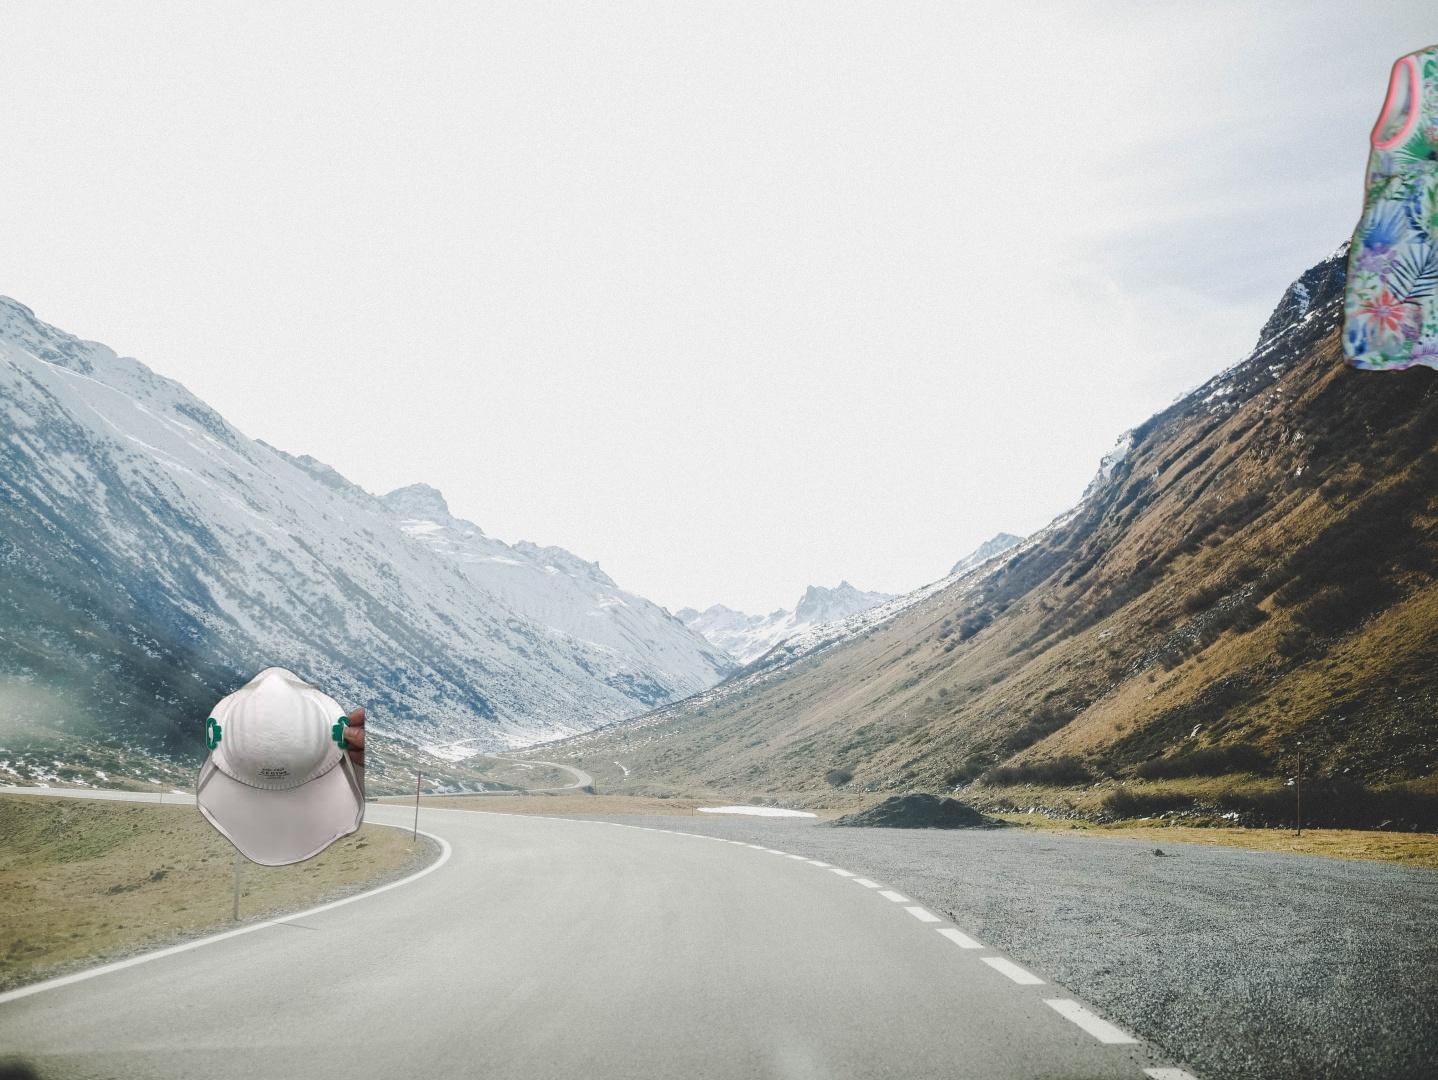clothes: (1337, 28, 1438, 378)
trash: (194, 664, 393, 875)
